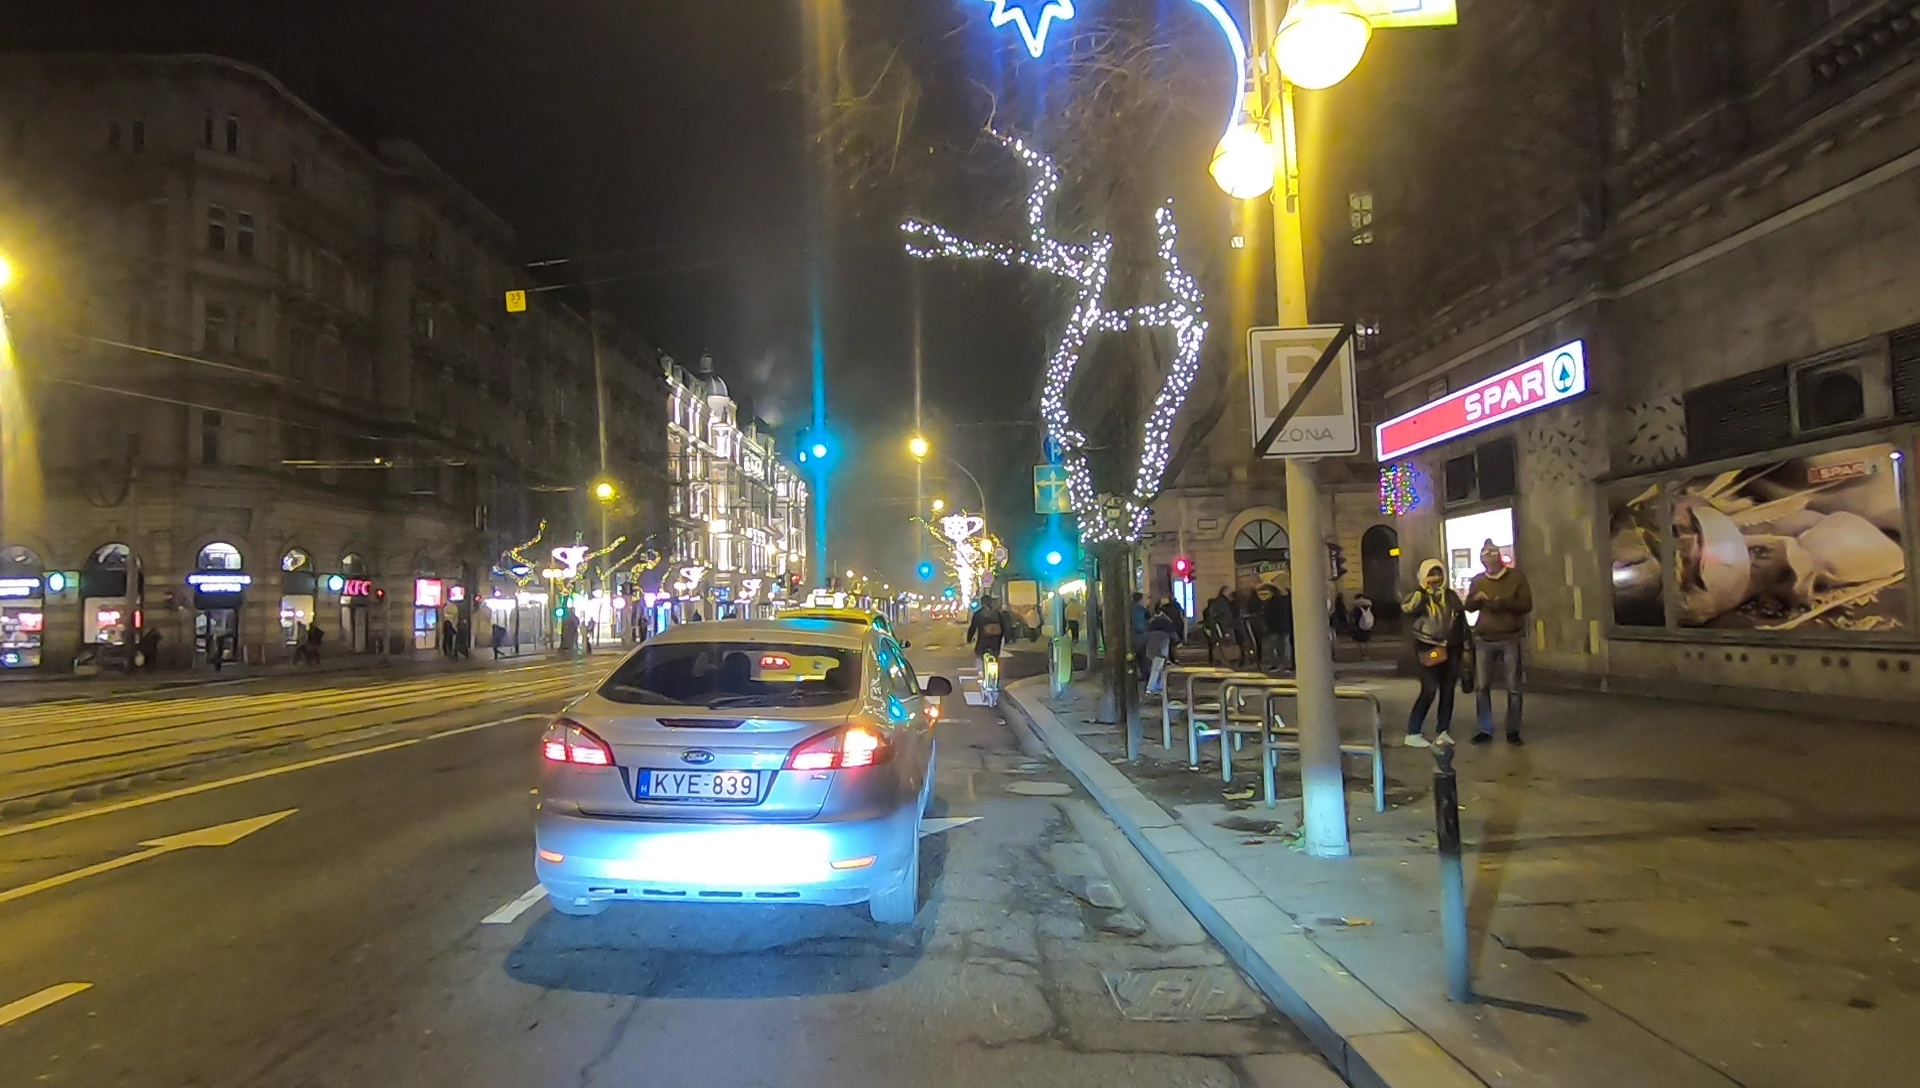person: (1471, 541, 1526, 743), (1404, 560, 1462, 745), (1254, 586, 1290, 679), (1145, 609, 1177, 696), (1208, 587, 1242, 668), (1123, 591, 1152, 678), (1349, 592, 1377, 669), (483, 621, 508, 663), (304, 622, 325, 663), (1067, 598, 1081, 634), (1026, 610, 1040, 638), (635, 611, 645, 644)
